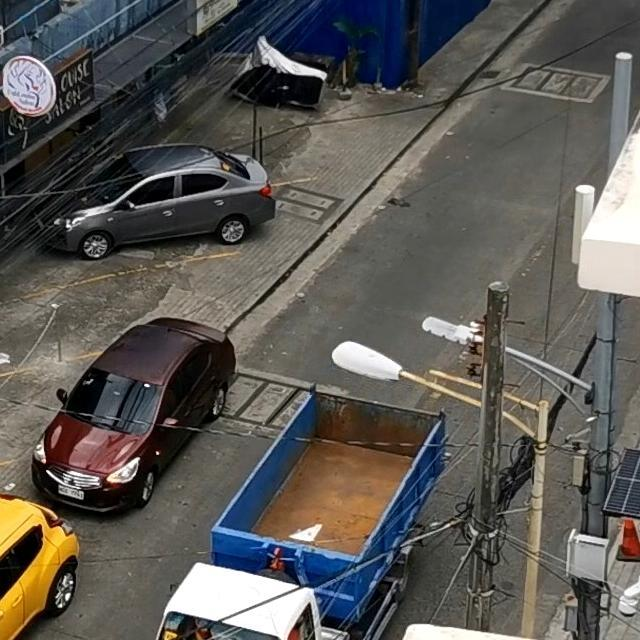Truck: (139, 381, 431, 640)
